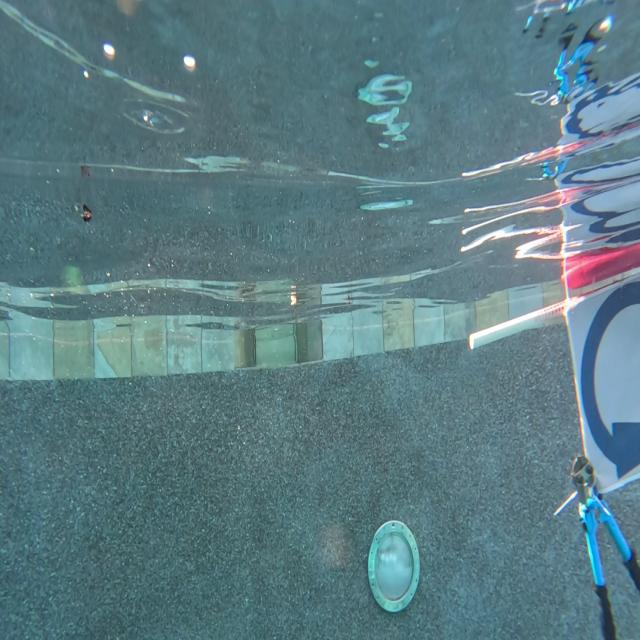blue_side: (558, 274, 640, 484)
